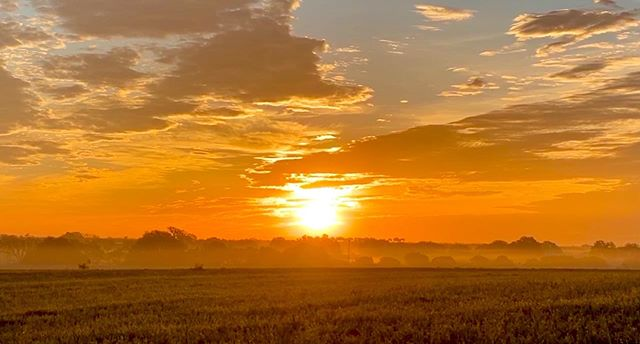grass: (1, 271, 640, 344)
sky: (1, 1, 640, 235)
sun: (266, 176, 351, 244)
